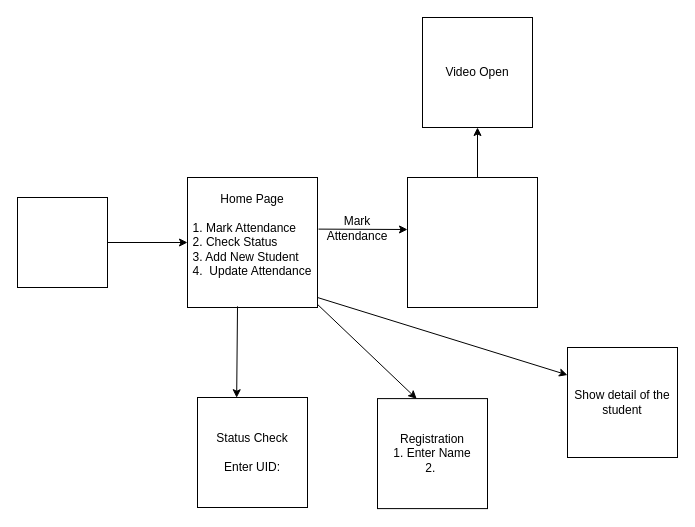
This 695x527 diagram has some shape labels left out. The box of each missing label's shape, as (x1, y1, x2, y2) in pixels:
Attendance Period: Lecturer Name Lecture Hall: (406, 176, 538, 308)
Login Username Password: (16, 196, 108, 288)
